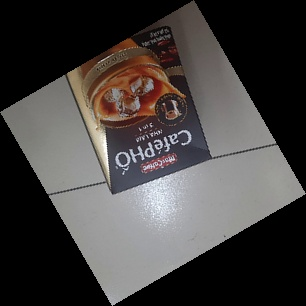CF pho: (59, 25, 212, 195)
